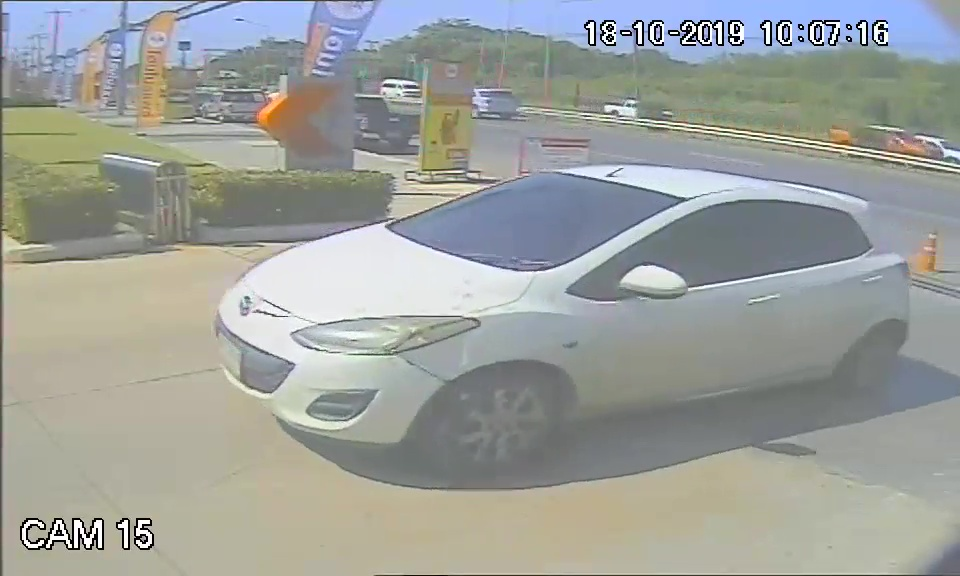sedan: (209, 161, 914, 479)
